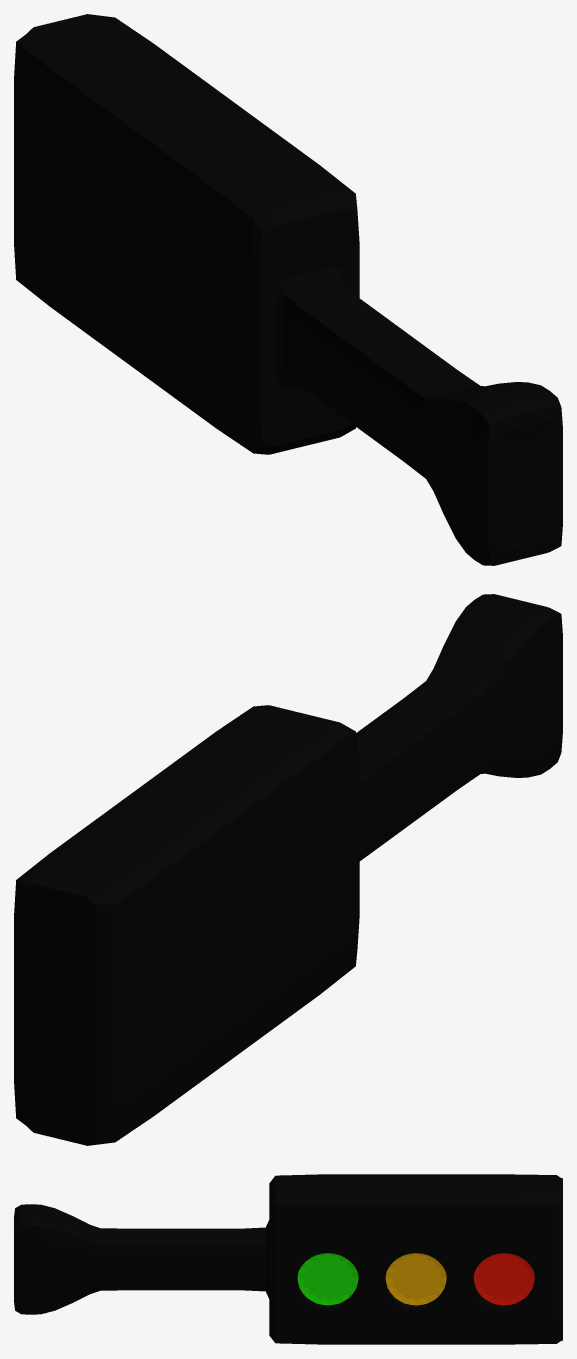
The model's file is TrafficLight.fbx.
3 views of the same model, one above another, from view 1: azimuth 30°, elevation 25°; view 2: azimuth 150°, elevation 25°; view 3: azimuth 270°, elevation 25° (orthographic). The views are drawn at different scales.
Parts seen in each view (by area): view 1: TrafficLight; view 2: TrafficLight; view 3: TrafficLight.
Part boxes in pixels (bbox=[...]): TrafficLight: bbox=[14, 14, 562, 565]; TrafficLight: bbox=[14, 594, 562, 1145]; TrafficLight: bbox=[14, 1174, 562, 1344].
Size of the model in its own units: 50 by 110 by 374.
